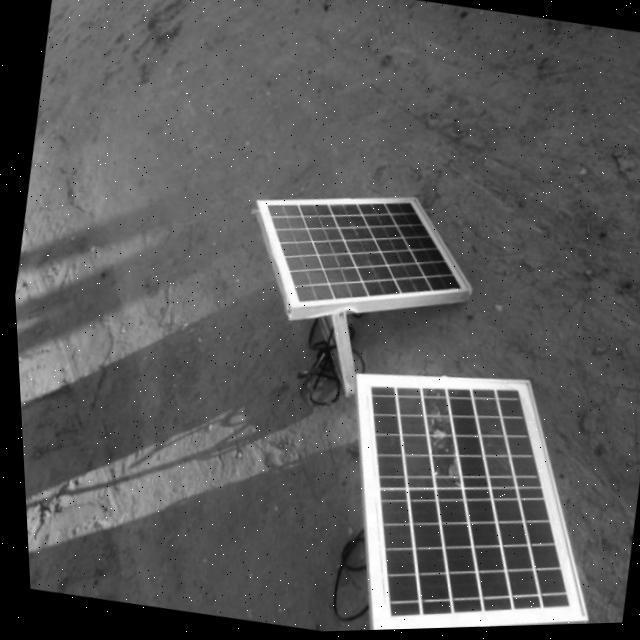Normal Solar Panel: (313, 357, 616, 633), (236, 174, 483, 342)
